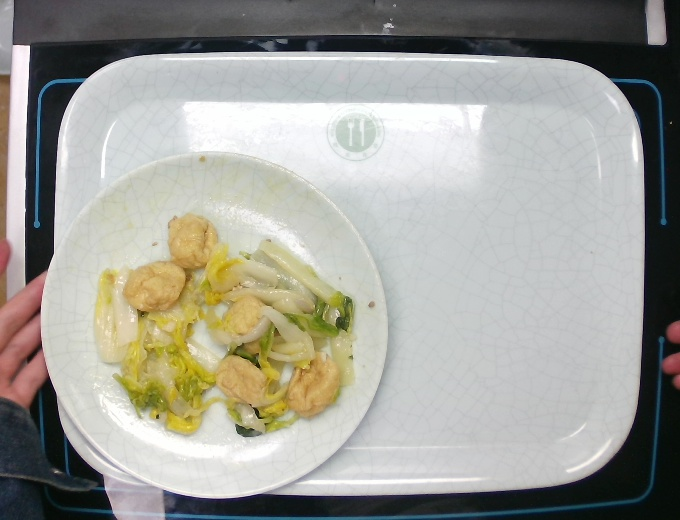JYsf-Da_Yuan_Pan: (33, 145, 394, 504)
